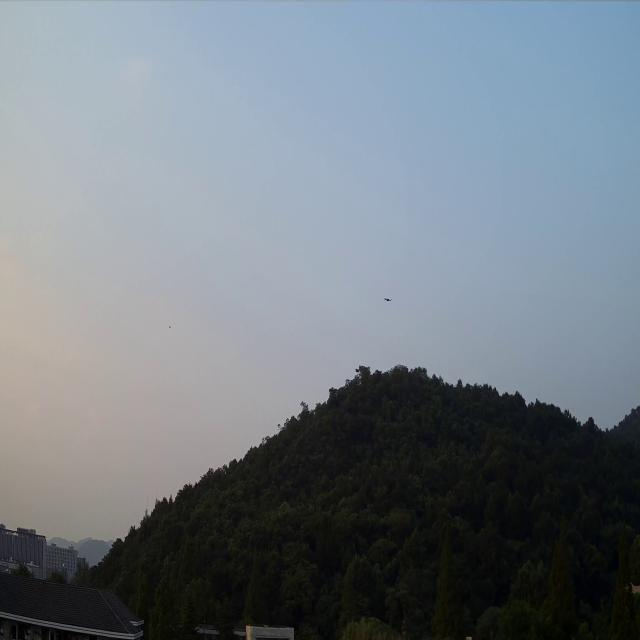UAV: (382, 295, 393, 302)
